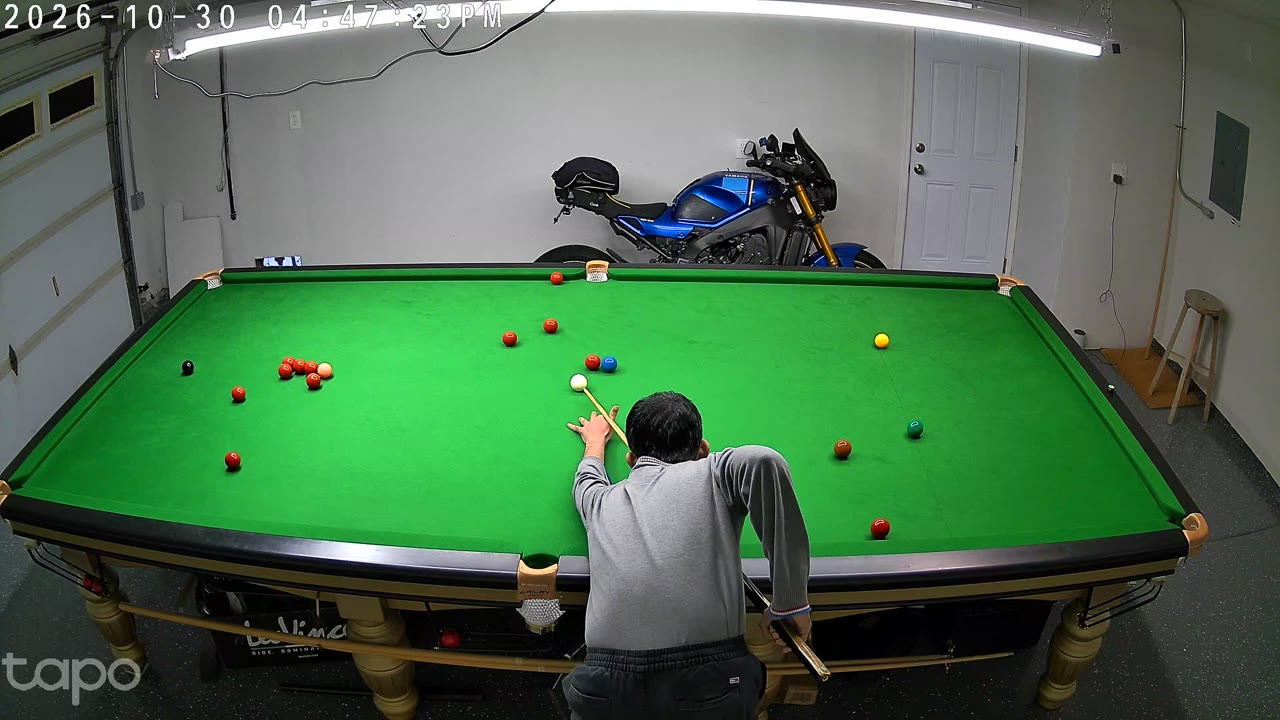black: (182, 358, 194, 378)
blue: (602, 354, 617, 377)
brown: (834, 438, 852, 463)
green: (907, 417, 923, 441)
pink: (318, 362, 331, 381)
red: (869, 515, 891, 547), (225, 449, 241, 474), (585, 353, 600, 374), (502, 329, 517, 349), (232, 385, 246, 405), (279, 362, 292, 382), (544, 317, 557, 336), (307, 371, 319, 391), (284, 356, 295, 376), (305, 360, 316, 379), (550, 271, 562, 288), (295, 358, 305, 376)
white: (570, 372, 587, 394)
yellow: (875, 332, 889, 351)
